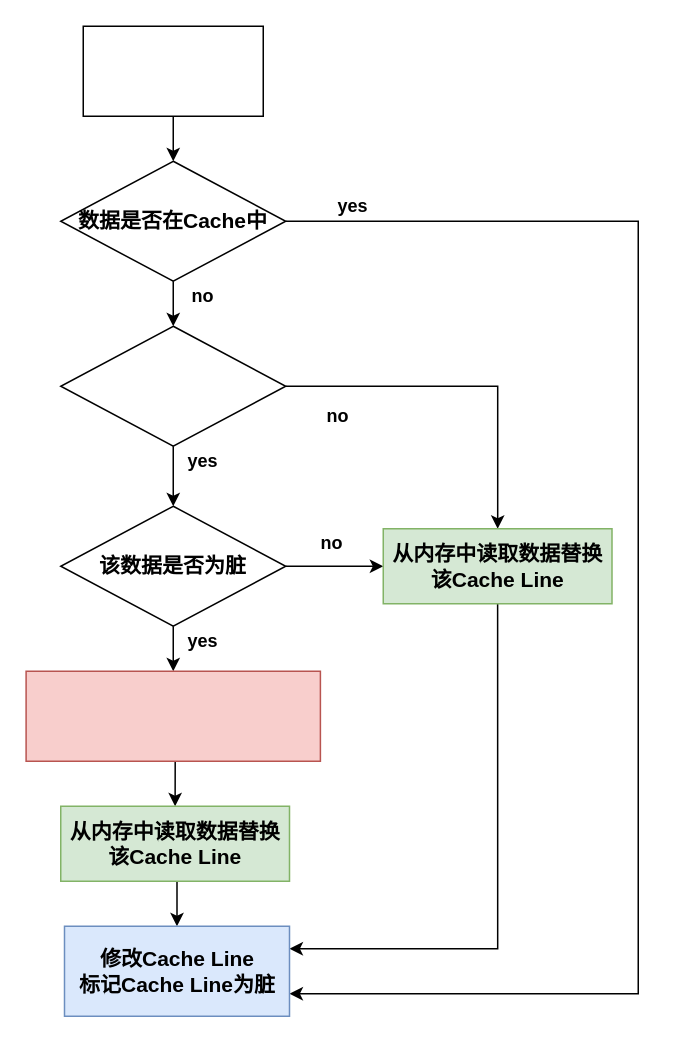
The diagram is 678 pixels wide and 1043 high, and some of its shapes have lost their labels. Each missing label, with the centre of its shape:
"CPU发起写入数据的操作" goes at point 172,70.
"将该脏Cache Line写回内存" goes at point 172,715.
"数据对应的Cache Line是否存储别人的数据" goes at point 172,385.
